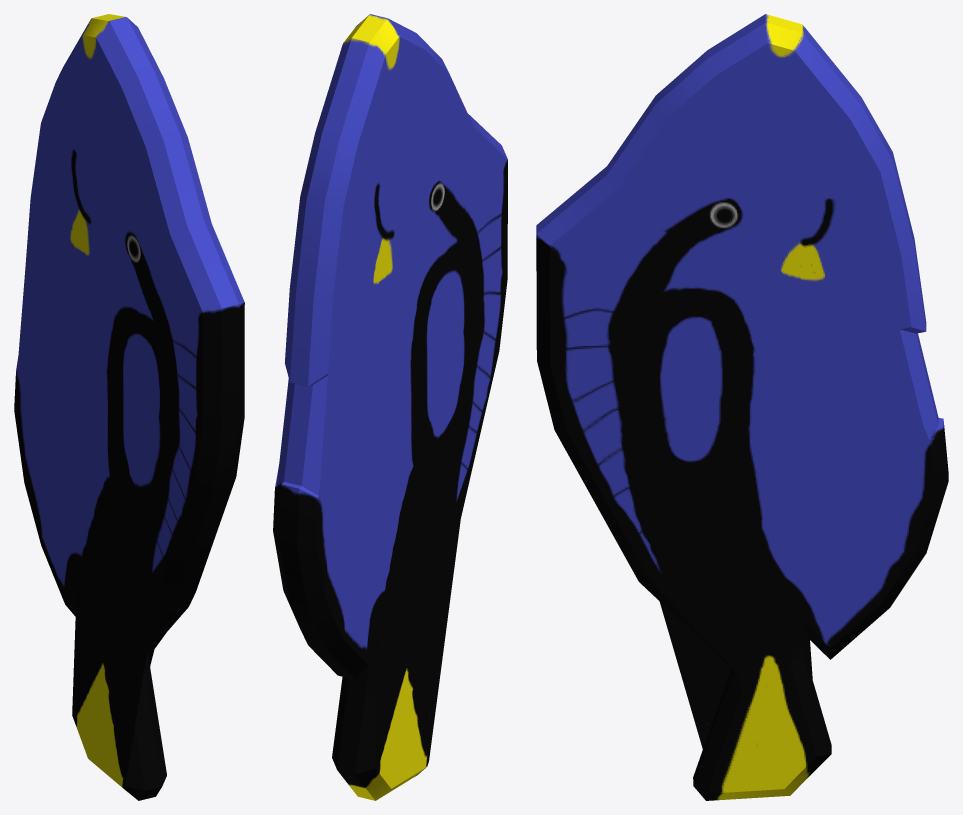
Rendered from dory.fbx.
3 renders of one model, left to right at view 1: azimuth 30°, elevation 25°; view 2: azimuth 150°, elevation 25°; view 3: azimuth 270°, elevation 25°, orthographic. The views are drawn at different scales.
Parts seen in each view (by area): view 1: node_id4; view 2: node_id4; view 3: node_id4.
Boxes of the visible parts, x1,y1,x2,y2 form: node_id4: [14, 14, 244, 800]; node_id4: [273, 14, 507, 800]; node_id4: [536, 14, 948, 800].
Bounding box in the file's own units: 0.0303 × 0.5109 × 0.2454.
Materials: 1 (1 with a texture image).
